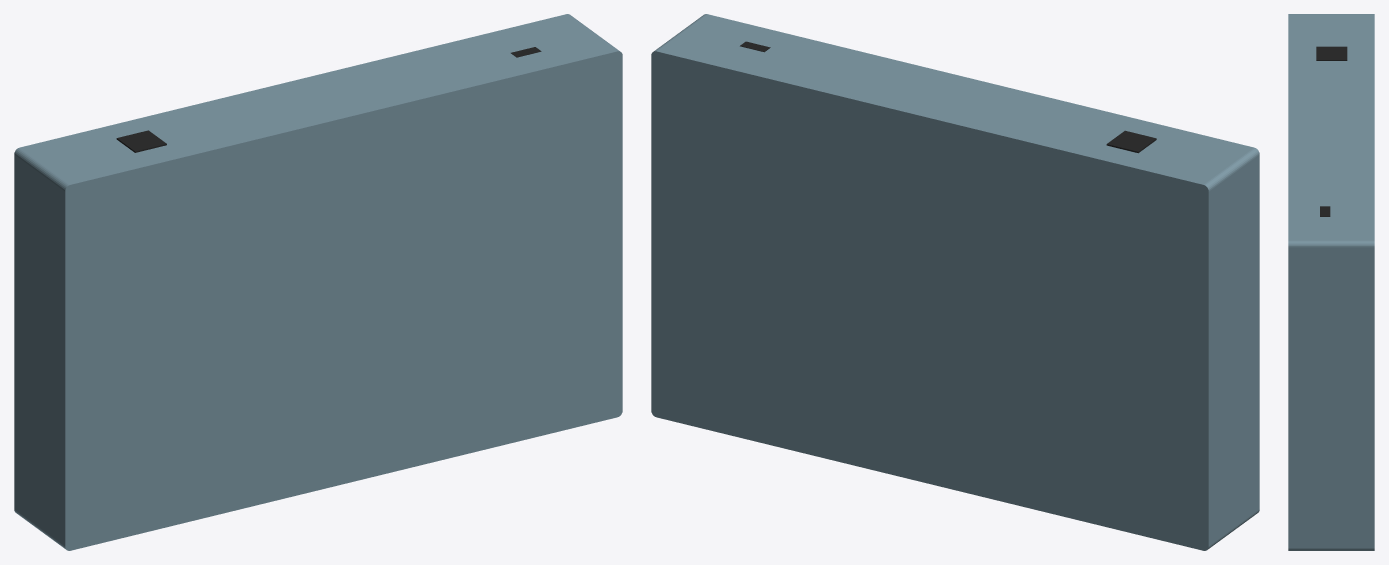
The picture shows the model from 3 angles, left to right: view 1: azimuth 30°, elevation 25°; view 2: azimuth 150°, elevation 25°; view 3: azimuth 270°, elevation 25°; orthographic projection. The views are drawn at different scales.
Parts seen in each view (by area): view 1: case; view 2: case; view 3: case, dc_jack.
Part boxes in pixels (x1=…): case: x1=14, y1=14, x2=622, y2=550; case: x1=651, y1=14, x2=1259, y2=550; case: x1=1288, y1=14, x2=1374, y2=550; dc_jack: x1=1316, y1=46, x2=1347, y2=60.
Bounding box in the file's own units: 0.158 × 0.0998 × 0.025.
